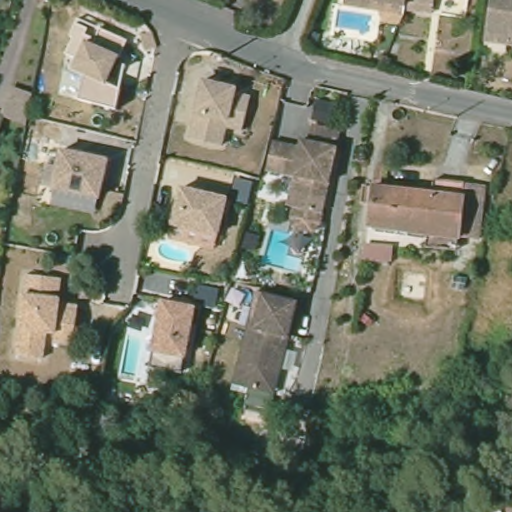pool: (260, 222, 310, 274), (115, 322, 152, 380), (329, 3, 380, 41), (157, 237, 197, 265)
